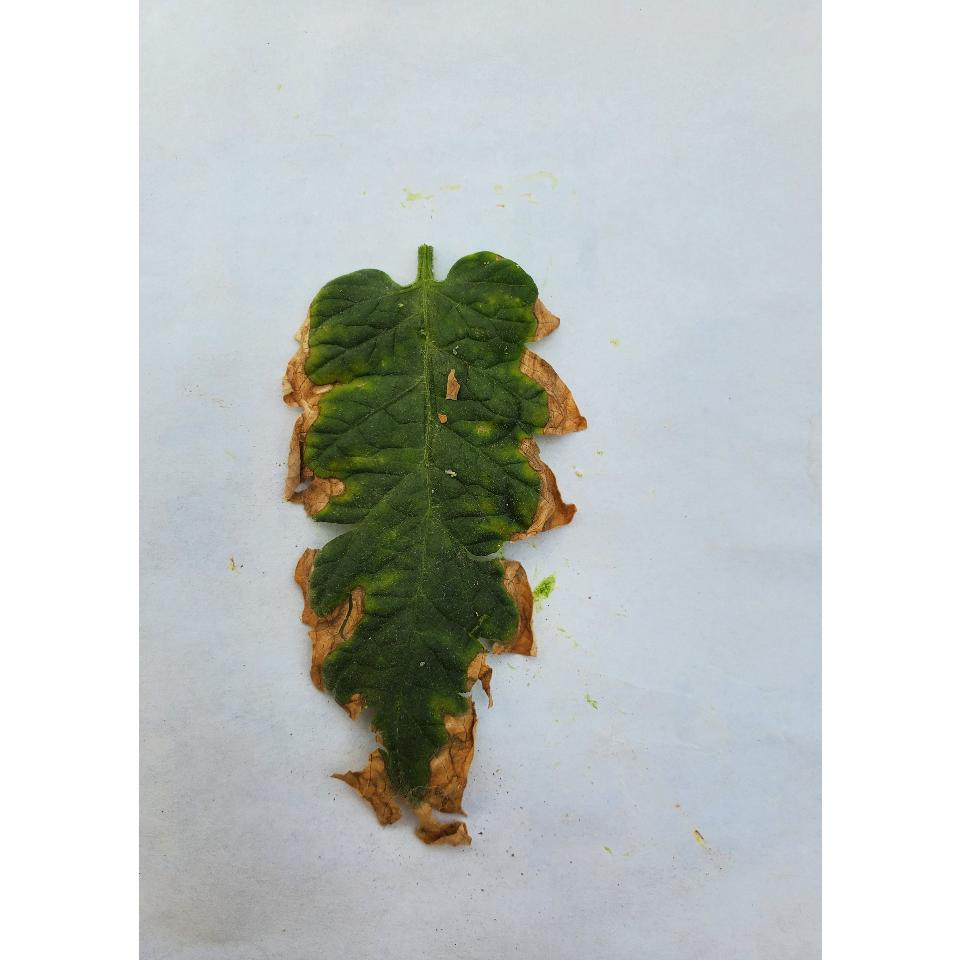tomato_bacterial_blight: (292, 236, 574, 856)
